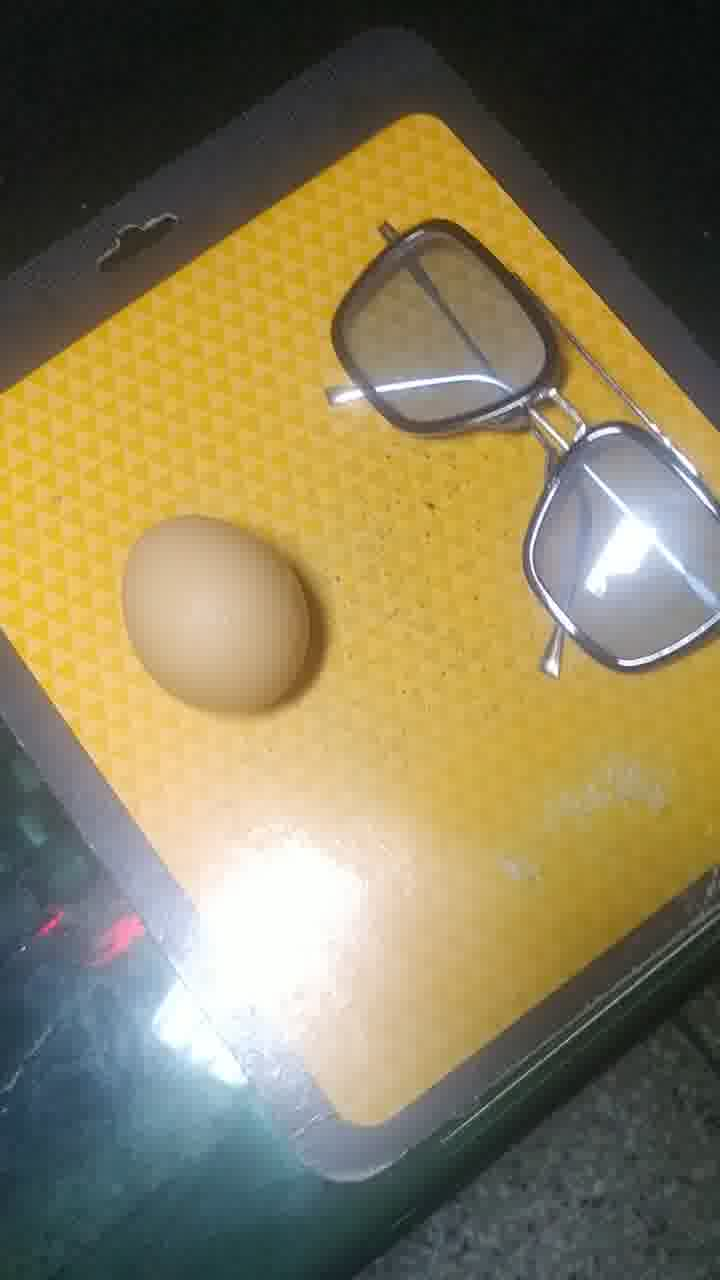egg: (111, 507, 328, 724)
sunglass: (328, 216, 720, 677)
